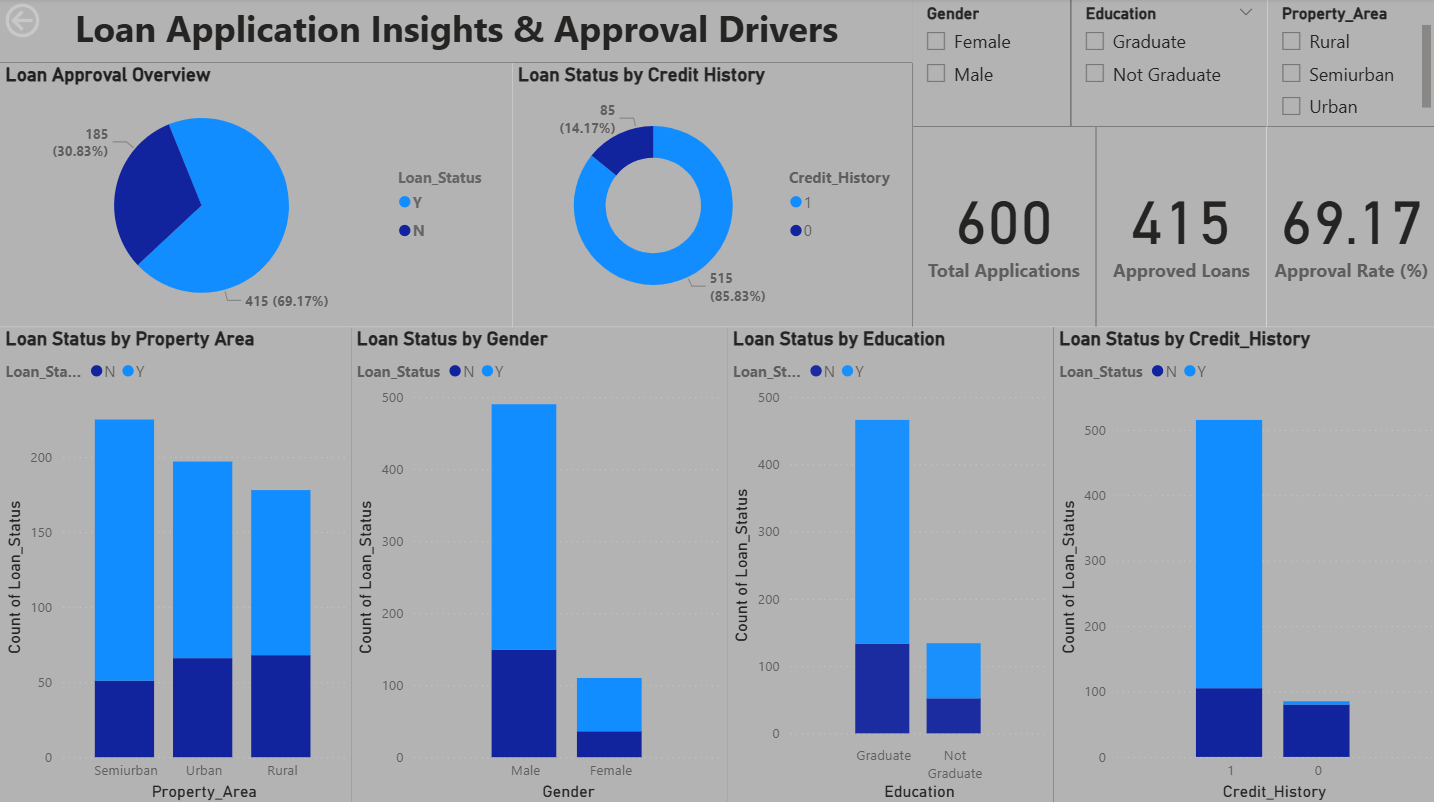

The page's visual inventory and layout, read from the dashboard file:
{"tool":"powerbi","page":{"name":"Page 1","canvas":[1280,720],"ordinal":0},"visuals":[{"type":"columnChart","title":"Loan Status by Gender","fields":{"Category":["loan_data_powerbi.Gender"],"Y":["CountNonNull(loan_data_powerbi.Loan_Status)"],"Series":["loan_data_powerbi.Loan_Status"]},"box":[312.5,293.2,335.4,427.1],"z":0},{"type":"pieChart","title":"Loan Approval Overview","fields":{"Y":["CountNonNull(loan_data_powerbi.Loan_Status)"],"Category":["loan_data_powerbi.Loan_Status"]},"box":[0,57.9,456.4,234.9],"z":1000},{"type":"slicer","fields":{"Values":["loan_data_powerbi.Gender"]},"box":[813.1,0,141.2,114.6],"z":2000},{"type":"slicer","fields":{"Values":["loan_data_powerbi.Education"]},"box":[954.3,0,174.9,114.6],"z":3000},{"type":"slicer","fields":{"Values":["loan_data_powerbi.Property_Area"]},"box":[1129.2,0,150.8,114.6],"z":4000},{"type":"columnChart","title":"Loan Status by Education","fields":{"Category":["loan_data_powerbi.Education"],"Y":["CountNonNull(loan_data_powerbi.Loan_Status)"],"Series":["loan_data_powerbi.Loan_Status"]},"box":[648,292.7,290.5,426.8],"z":5000},{"type":"columnChart","title":"Loan Status by Property Area","fields":{"Category":["loan_data_powerbi.Property_Area"],"Series":["loan_data_powerbi.Loan_Status"],"Y":["CountNonNull(loan_data_powerbi.Loan_Status)"]},"box":[0,293.2,312.5,427.1],"z":6000},{"type":"card","fields":{"Values":["loan_data_powerbi.Approved Loans"]},"box":[976,114.6,152,178.6],"z":7000},{"type":"card","fields":{"Values":["loan_data_powerbi.Approval Rate (%)"]},"box":[1128,114.6,152,178.6],"z":8000},{"type":"card","fields":{"Values":["loan_data_powerbi.Total Applications"]},"box":[813.1,114.6,162.9,178.6],"z":9000},{"type":"columnChart","title":"Loan Status by Credit_History ","fields":{"Category":["loan_data_powerbi.Credit_History"],"Y":["CountNonNull(loan_data_powerbi.Loan_Status)"],"Series":["loan_data_powerbi.Loan_Status"]},"box":[938.6,292.7,341.9,426.8],"z":10000},{"type":"actionButton","box":[0,0,100,40],"z":11000},{"type":"donutChart","title":"Loan Status by Credit History","fields":{"Y":["CountNonNull(loan_data_powerbi.Loan_Status)"],"Category":["loan_data_powerbi.Credit_History"]},"box":[456.4,57.9,356.2,234.9],"z":12000},{"type":"textbox","box":[0,0,813.1,57.9],"z":13000}]}

Visuals, with their boxes on the page's 1280x720 design canvas (x1, y1, x2, y2). These are canvas units, not pixel positions in the 1434x802 screenshot, which may show the page scaled, cropped or inside an application window:
"Loan Status by Gender" columnChart: (312,293,648,720)
"Loan Approval Overview" pieChart: (0,58,456,293)
slicer - loan_data_powerbi.Gender: (813,0,954,115)
slicer - loan_data_powerbi.Education: (954,0,1129,115)
slicer - loan_data_powerbi.Property_Area: (1129,0,1280,115)
"Loan Status by Education" columnChart: (648,293,938,720)
"Loan Status by Property Area" columnChart: (0,293,312,720)
card - loan_data_powerbi.Approved Loans: (976,115,1128,293)
card - loan_data_powerbi.Approval Rate (%): (1128,115,1280,293)
card - loan_data_powerbi.Total Applications: (813,115,976,293)
"Loan Status by Credit_History " columnChart: (939,293,1280,720)
actionButton: (0,0,100,40)
"Loan Status by Credit History" donutChart: (456,58,813,293)
textbox: (0,0,813,58)
